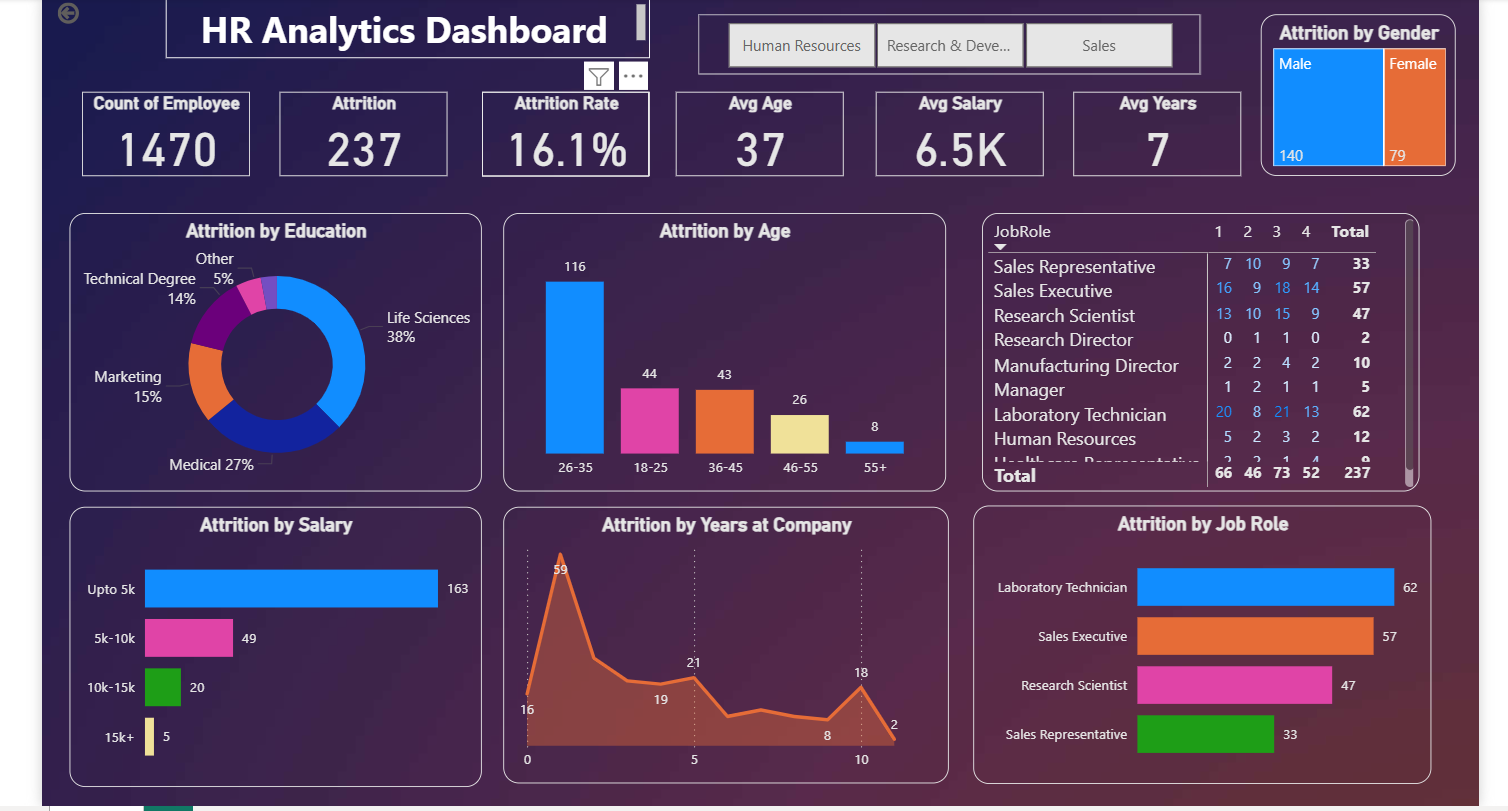

Layout of this report page (visuals, bound fields, positions):
{"tool":"powerbi","page":{"name":"Page 1","canvas":[1280,720],"ordinal":0},"visuals":[{"type":"card","title":"Count of Employee","fields":{"Values":["CountNonNull(HR_Analytics.EmpID)"]},"box":[35.3,84,149.5,75.6],"z":0},{"type":"card","title":"Attrition","fields":{"Values":["Sum(HR_Analytics.AttritionCount)"]},"box":[211.7,84,149.5,75.6],"z":1000},{"type":"card","title":"Attrition Rate","fields":{"Values":["HR_Analytics.AttritionRate"]},"box":[391.4,84,149.5,75.6],"z":2000},{"type":"card","title":"Avg Age","fields":{"Values":["Avg(HR_Analytics.Age)"]},"box":[564.4,84,149.5,75.6],"z":3000},{"type":"actionButton","box":[10.1,0,100.8,26.9],"z":4000},{"type":"card","title":"Avg Salary","fields":{"Values":["Avg(HR_Analytics.MonthlyIncome)"]},"box":[742.5,84,149.5,75.6],"z":5000},{"type":"card","title":"Avg Years","fields":{"Values":["Avg(HR_Analytics.YearsAtCompany)"]},"box":[918.8,84,149.5,75.6],"z":6000},{"type":"donutChart","title":"Attrition by Education","fields":{"Y":["Sum(HR_Analytics.AttritionCount)"],"Category":["HR_Analytics.EducationField","HR_Analytics.YearsAtCompany"]},"box":[24.1,191.3,367.1,248],"z":7000},{"type":"columnChart","title":"Attrition by Age","fields":{"Category":["HR_Analytics.AgeGroup"],"Y":["Sum(HR_Analytics.AttritionCount)"]},"box":[411,191.3,394,248],"z":8000},{"type":"pivotTable","fields":{"Rows":["HR_Analytics.JobRole"],"Columns":["HR_Analytics.JobSatisfaction"],"Values":["Sum(HR_Analytics.AttritionCount)"]},"box":[837.6,191.3,389.8,248],"z":9000},{"type":"barChart","title":"Attrition by Salary","fields":{"Category":["HR_Analytics.SalarySlab"],"Y":["Sum(HR_Analytics.AttritionCount)"]},"box":[24.1,453.5,367.1,249.4],"z":10000},{"type":"barChart","title":"Attrition by Job Role","fields":{"Category":["HR_Analytics.JobRole"],"Y":["Sum(HR_Analytics.AttritionCount)"]},"box":[829.1,452.1,408.2,248],"z":11000},{"type":"areaChart","title":"Attrition by Years at Company","fields":{"Category":["HR_Analytics.YearsAtCompany"],"Y":["Sum(HR_Analytics.AttritionCount)"]},"box":[411,453.5,396.9,246.6],"z":12000},{"type":"treemap","title":"Attrition by Gender","fields":{"Group":["HR_Analytics.Gender"],"Values":["Sum(HR_Analytics.AttritionCount)"]},"box":[1085,14.1,174,144.3],"z":13000},{"type":"slicer","fields":{"Values":["HR_Analytics.Department"]},"box":[584.2,14.1,447,53.8],"z":14000},{"type":"textbox","box":[110.3,0,431.4,53.8],"z":15000}]}

Visuals, with their boxes in screenshot pixels (x1, y1, x2, y2):
"Count of Employee" card: <box>50,65,229,156</box>
"Attrition" card: <box>261,65,440,156</box>
"Attrition Rate" card: <box>476,65,655,156</box>
"Avg Age" card: <box>683,65,862,156</box>
"Avg Salary" card: <box>896,65,1075,156</box>
"Avg Years" card: <box>1107,65,1286,156</box>
"Attrition by Education" donutChart: <box>37,194,476,490</box>
"Attrition by Age" columnChart: <box>500,194,971,490</box>
pivotTable - HR_Analytics.JobRole x HR_Analytics.JobSatisfaction: <box>1010,194,1477,490</box>
"Attrition by Salary" barChart: <box>37,507,476,806</box>
"Attrition by Job Role" barChart: <box>1000,506,1489,803</box>
"Attrition by Years at Company" areaChart: <box>500,507,975,803</box>
"Attrition by Gender" treemap: <box>1306,0,1507,154</box>
slicer - HR_Analytics.Department: <box>707,0,1242,46</box>
textbox: <box>140,0,656,29</box>
